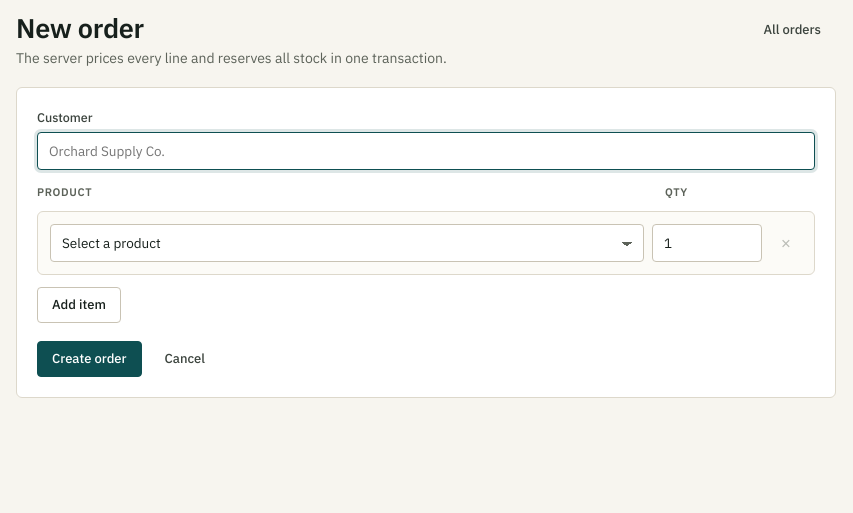
Test: CreateOrderPage › points at the exact SKU the server rejected with 409
Select "CHR-001 Ergotec Ergonomic Chair (3 in stock)" in the dropdown named "Product for item 1" at x=347, y=243, box 50,224 -> 644,262
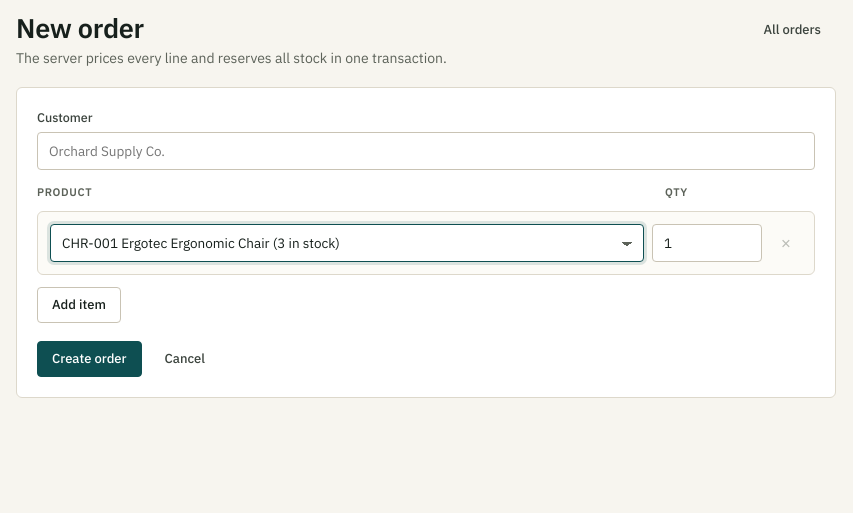
Type "Katong Components" into the field labelled "Customer" at x=426, y=151, box 37,132 -> 815,170
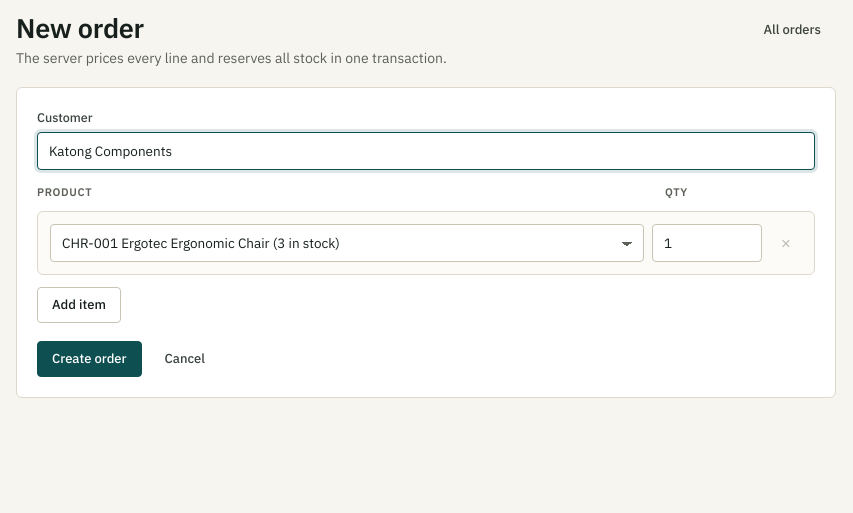
Replace the text in the field named "Quantity for item 1" with "99" at x=707, y=243, box 652,224 -> 762,262
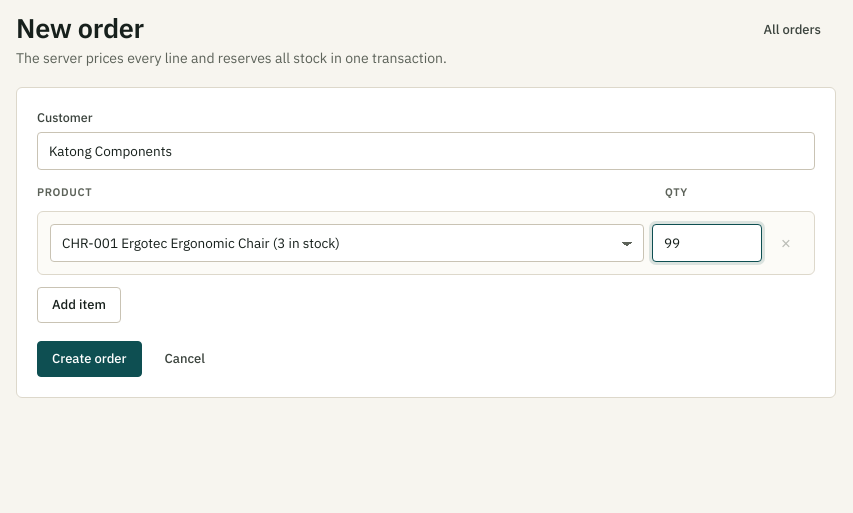
Click the button "Create order" at x=89, y=359, box 37,341 -> 142,377
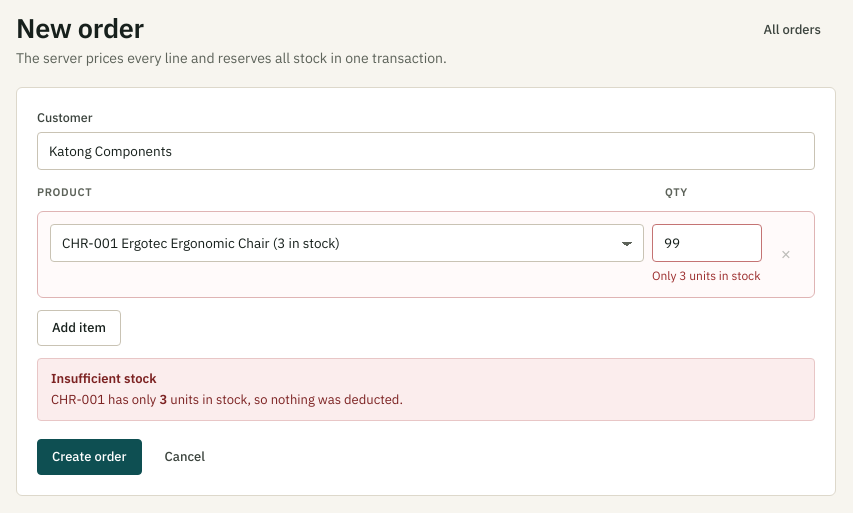
Now the text "Only 3 units in stock" is shown, box 652,267 -> 762,285
Now the message shows "CHR-001 has only 3 units in stock, so nothing was deducted.", box 37,358 -> 815,421
